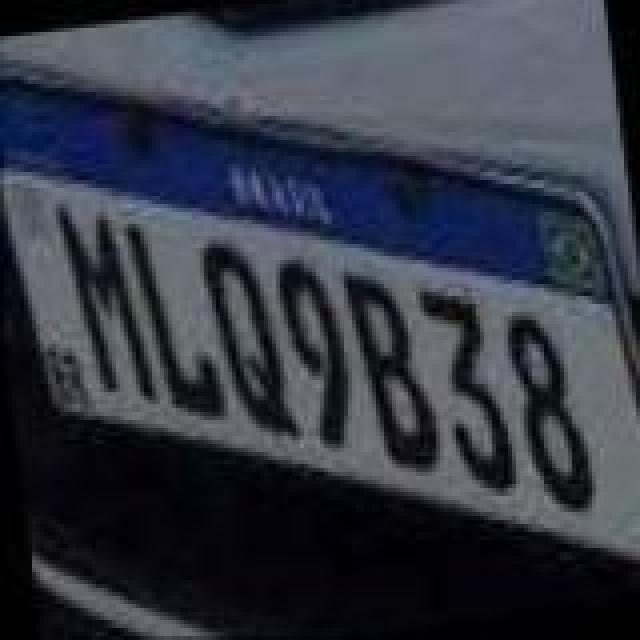3: (414, 276, 518, 504)
8: (496, 302, 596, 522)
9: (270, 250, 358, 450)
B: (342, 262, 446, 486)
L: (126, 208, 230, 428)
M: (54, 194, 158, 414)
Q: (198, 232, 302, 452)
